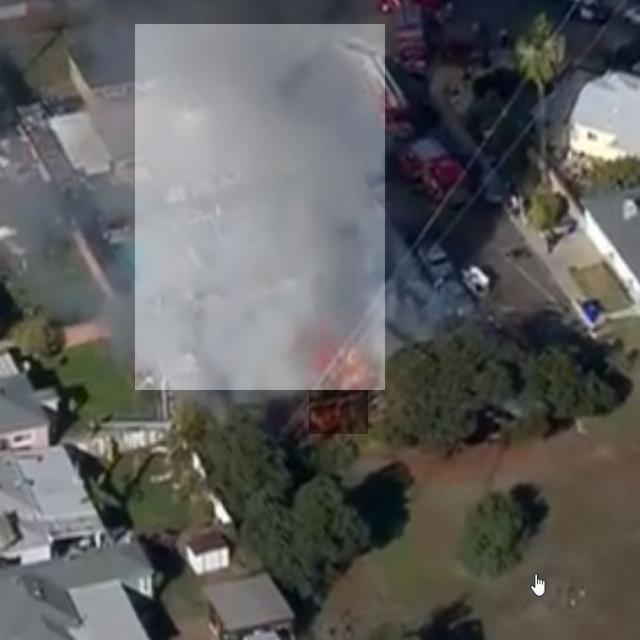Fire: (309, 342, 368, 434)
Smoke: (135, 24, 385, 390)
